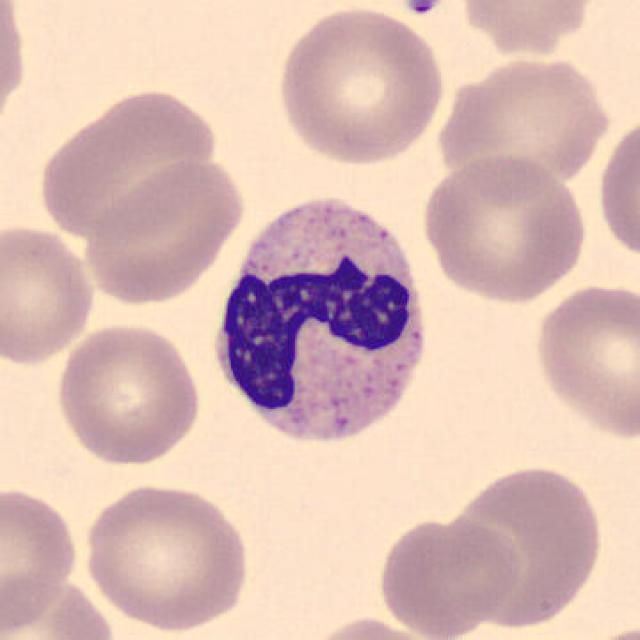Neutrophil: (203, 185, 437, 466)
Platelets: (400, 0, 448, 18)
RBC: (34, 83, 222, 243), (270, 2, 450, 169), (441, 458, 606, 635), (78, 478, 254, 635), (414, 152, 592, 305), (432, 49, 615, 194), (80, 153, 249, 307), (52, 319, 206, 467), (373, 513, 523, 638), (528, 277, 638, 444), (0, 220, 100, 367), (0, 482, 82, 636), (452, 0, 602, 58), (0, 573, 119, 640), (594, 106, 640, 268), (298, 612, 452, 640), (0, 0, 30, 139), (574, 617, 640, 640)
